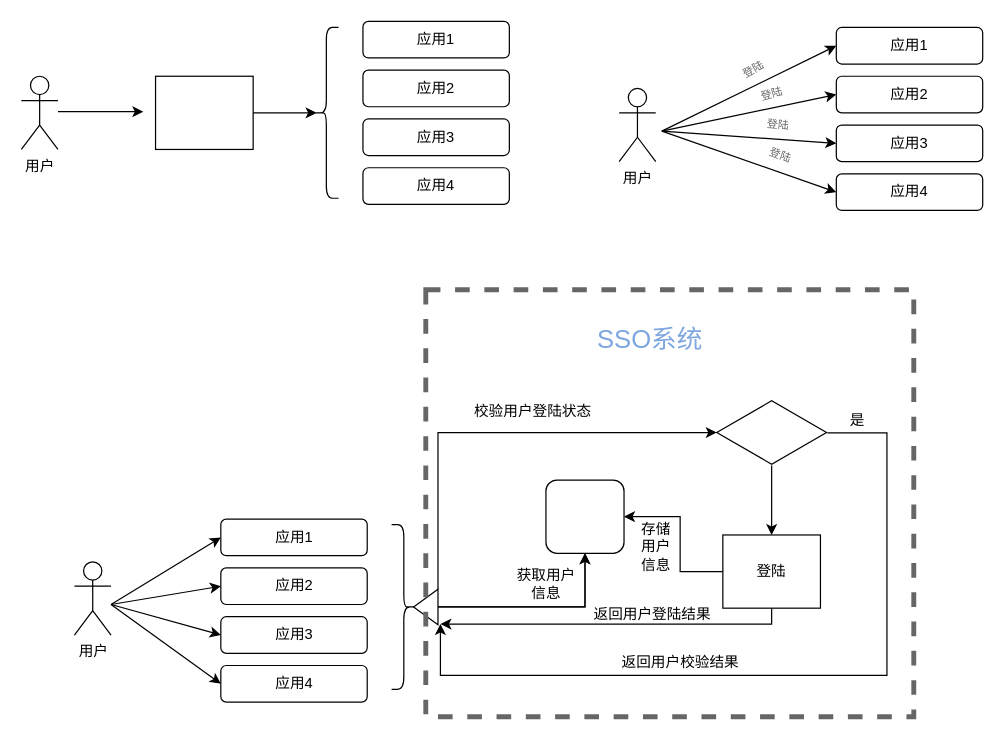
Some shapes in this 1004 by 741 pixel diagram are drawn without their labels. The centre of each missing label's shape, as x and y in pixels:
"单点登陆 (SSO)" belongs at [203,112].
"是否登陆" belongs at [771,431].
"用户信息共享" belongs at [584,516].
